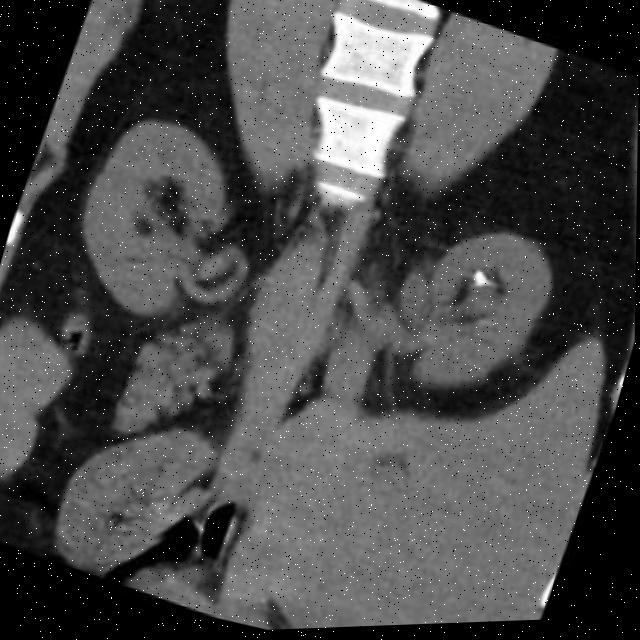Tas_Var: (467, 270, 491, 292)
